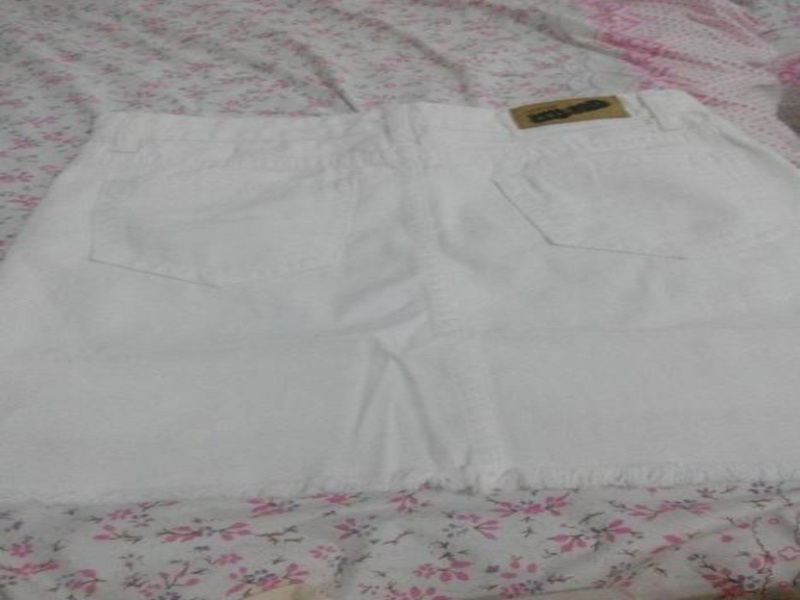skirt: (0, 88, 798, 507)
